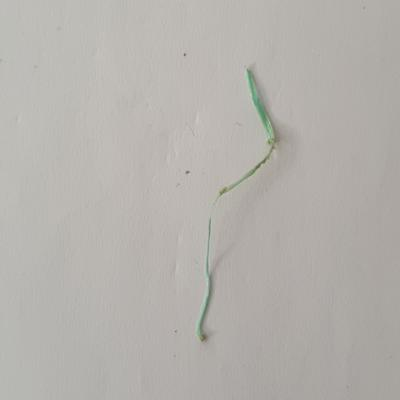thread: (185, 64, 282, 348)
